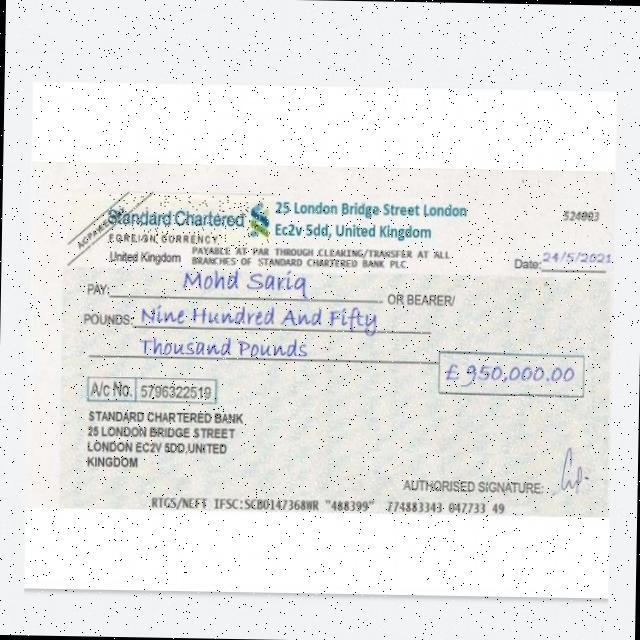Standard Chartered: (107, 194, 270, 246)
